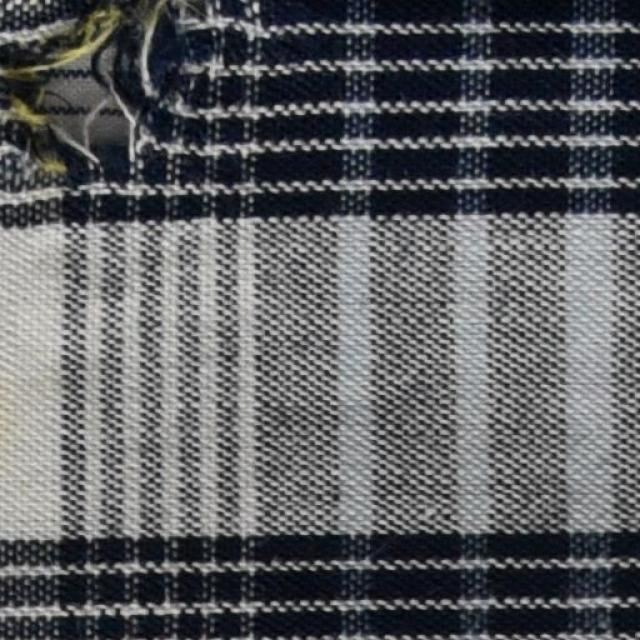Hole: (53, 45, 131, 147)
Snag: (117, 1, 195, 119)
Stain: (1, 7, 124, 178)
